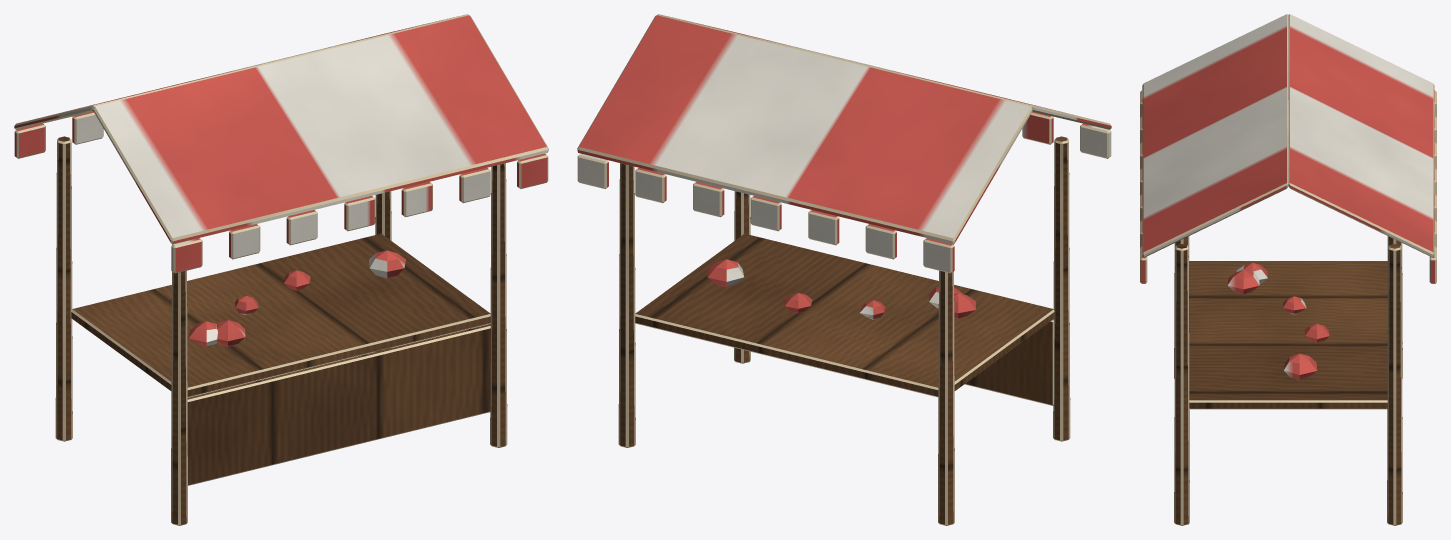
The model's file is Env_Market_Stall.fbx.
3 views of the same model, side by side, from view 1: azimuth 30°, elevation 25°; view 2: azimuth 150°, elevation 25°; view 3: azimuth 270°, elevation 25° (orthographic). The views are drawn at different scales.
Parts seen in each view (by area): view 1: Env_Market_Stall; view 2: Env_Market_Stall; view 3: Env_Market_Stall.
Boxes of the visible parts, x1,y1,x2,y2 form: Env_Market_Stall: (14,14,548,525); Env_Market_Stall: (577,14,1111,525); Env_Market_Stall: (1140,14,1436,525).
Size of the model in its own units: 284 by 209 by 274.
